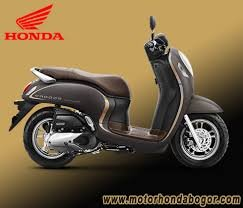motor: (19, 29, 229, 179)
